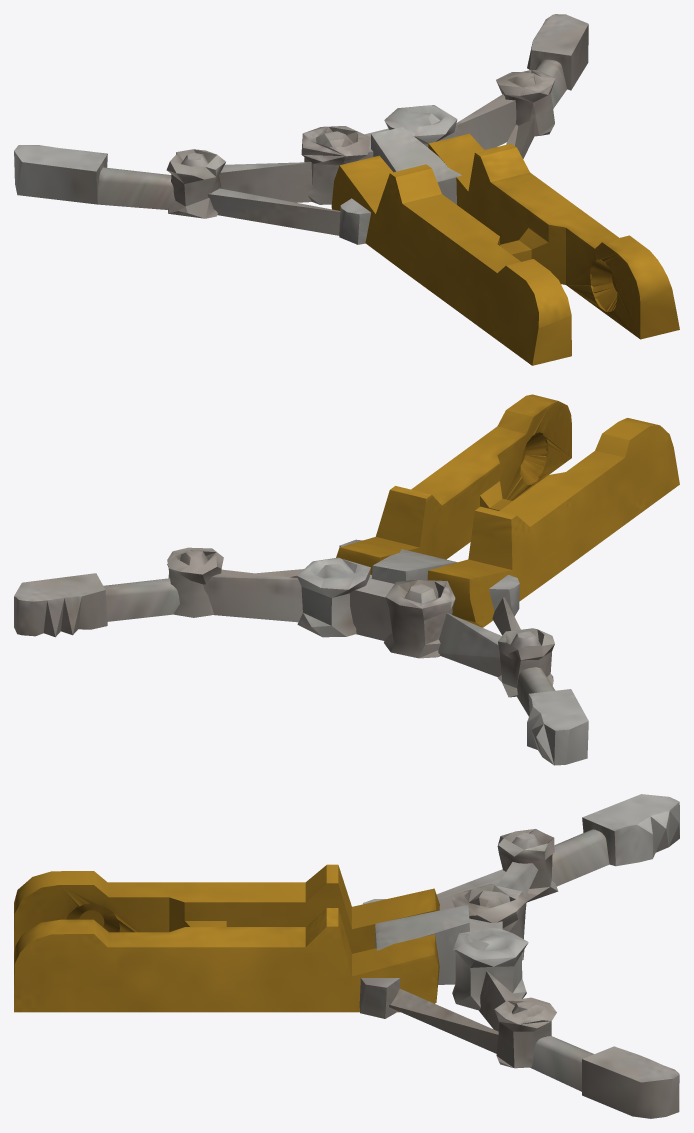
Rendered from inserter-arm-stack-hand-open.glb.
3 renders of one model, top to bottom at view 1: azimuth 30°, elevation 25°; view 2: azimuth 150°, elevation 25°; view 3: azimuth 270°, elevation 25°, orthographic. The views are drawn at different scales.
Parts seen in each view (by area): view 1: body; view 2: body; view 3: body.
Part boxes in pixels (box(x1,y1,x2,y2)): body: box(14, 14, 679, 365); body: box(14, 394, 679, 765); body: box(14, 794, 679, 1118).
Bounding box in the file's own units: 1.02 × 0.1294 × 0.9896.
Materials: 2 (2 with a texture image).
